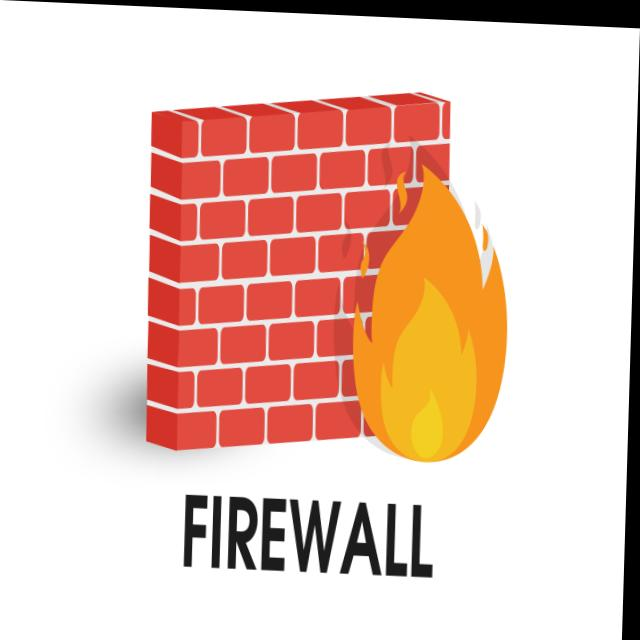Firewall: (100, 65, 551, 484)
